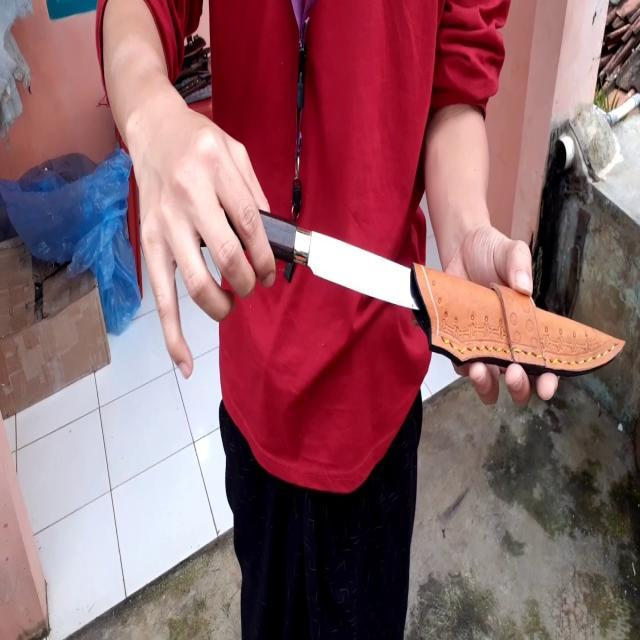Pisau: (263, 201, 436, 322)
